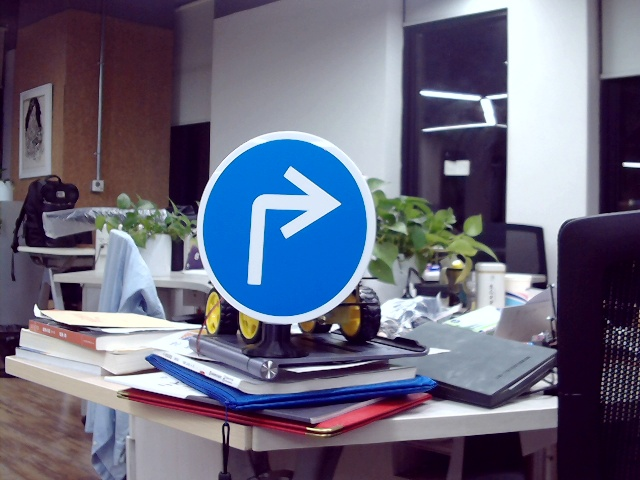turn_right: (234, 166, 336, 291)
